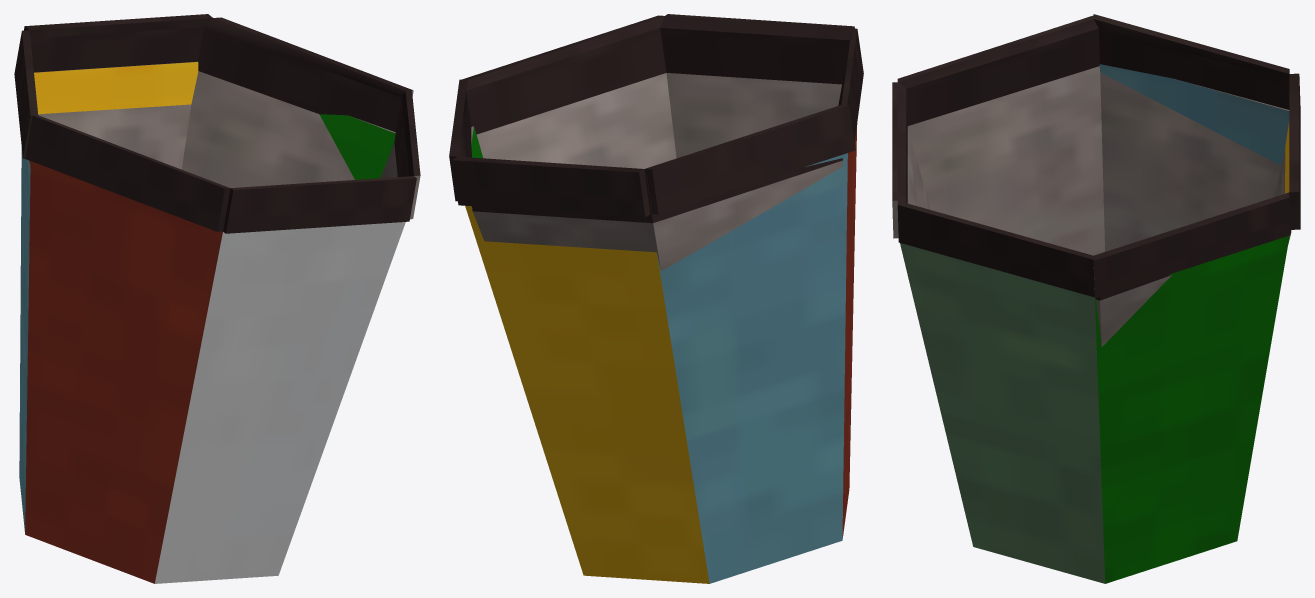
Rendered from BLOCKYGON_BEACH BIN.fbx.
The picture shows the model from 3 angles, left to right: view 1: azimuth 30°, elevation 25°; view 2: azimuth 150°, elevation 25°; view 3: azimuth 270°, elevation 25°; orthographic projection. The views are drawn at different scales.
Parts seen in each view (by area): view 1: BLOCKYGON_BEACH_BIN; view 2: BLOCKYGON_BEACH_BIN; view 3: BLOCKYGON_BEACH_BIN.
Part boxes in pixels (x1=…): BLOCKYGON_BEACH_BIN: x1=14, y1=14, x2=420, y2=583; BLOCKYGON_BEACH_BIN: x1=449, y1=14, x2=863, y2=583; BLOCKYGON_BEACH_BIN: x1=892, y1=14, x2=1300, y2=583.
Size of the model in its own units: 51.83 by 59.38 by 48.54.
